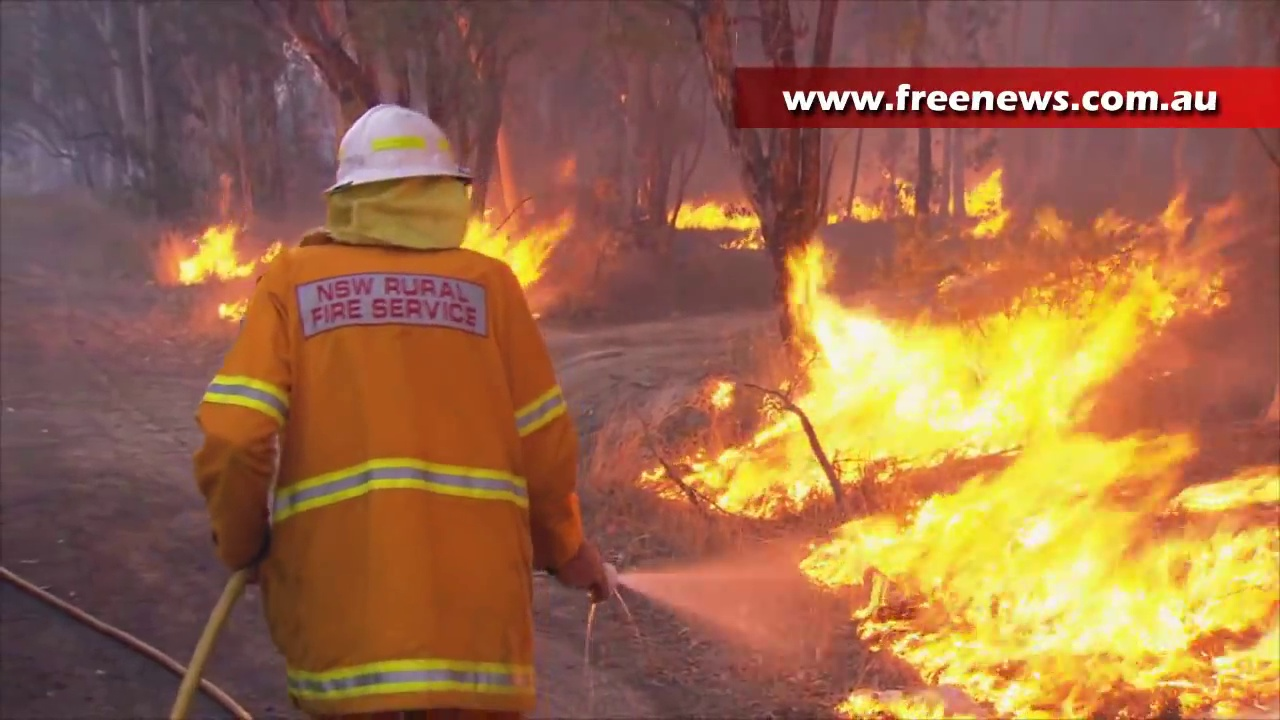fire: (677, 229, 1224, 514), (835, 472, 1280, 720), (466, 221, 551, 279), (175, 225, 240, 280), (678, 202, 757, 229), (966, 176, 1003, 216), (849, 196, 878, 219), (900, 180, 916, 210)
